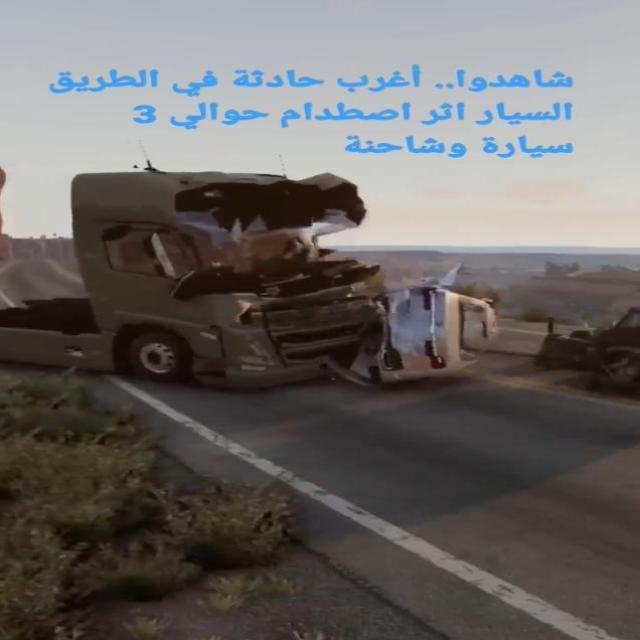accident: (0, 150, 482, 382)
